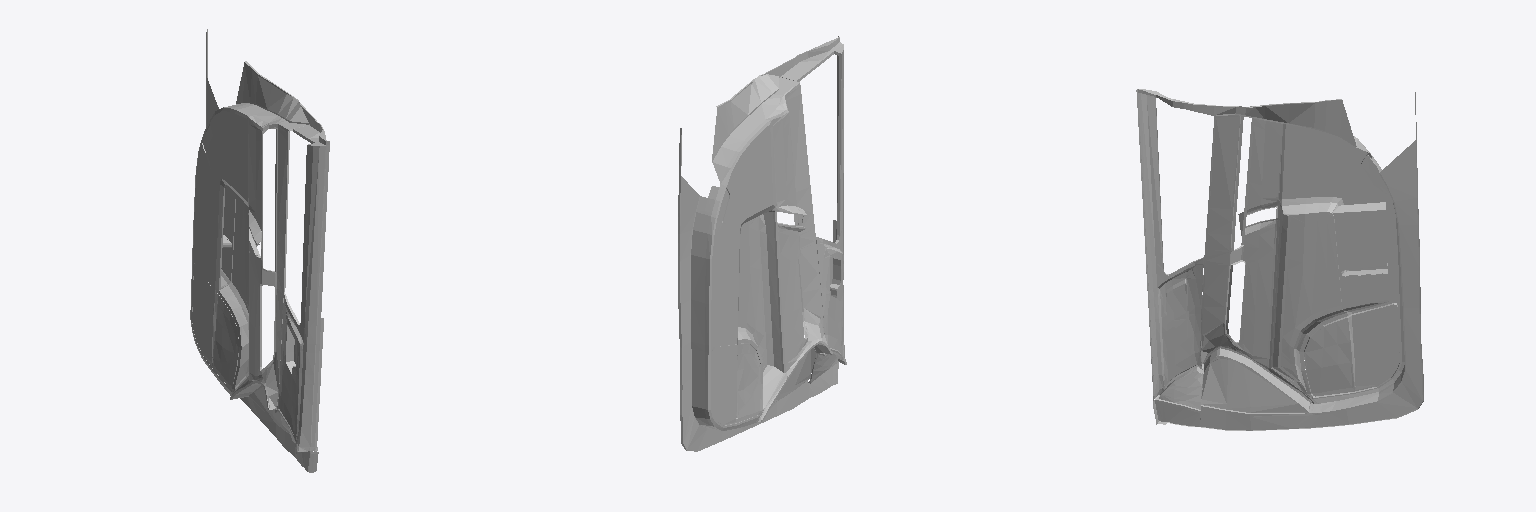
3 renders of one model, left to right at view 1: azimuth 30°, elevation 25°; view 2: azimuth 150°, elevation 25°; view 3: azimuth 270°, elevation 25°, orthographic.
Parts seen in each view (by area): view 1: SketchUp STL com.sketchup.SketchUp.2018; view 2: SketchUp STL com.sketchup.SketchUp.2018; view 3: SketchUp STL com.sketchup.SketchUp.2018.
Part boxes in pixels (bbox=[...]): SketchUp STL com.sketchup.SketchUp.2018: bbox=[190, 29, 329, 472]; SketchUp STL com.sketchup.SketchUp.2018: bbox=[678, 36, 846, 451]; SketchUp STL com.sketchup.SketchUp.2018: bbox=[1136, 89, 1423, 430].
Size of the model in its own units: 6.82 by 43.24 by 32.52.